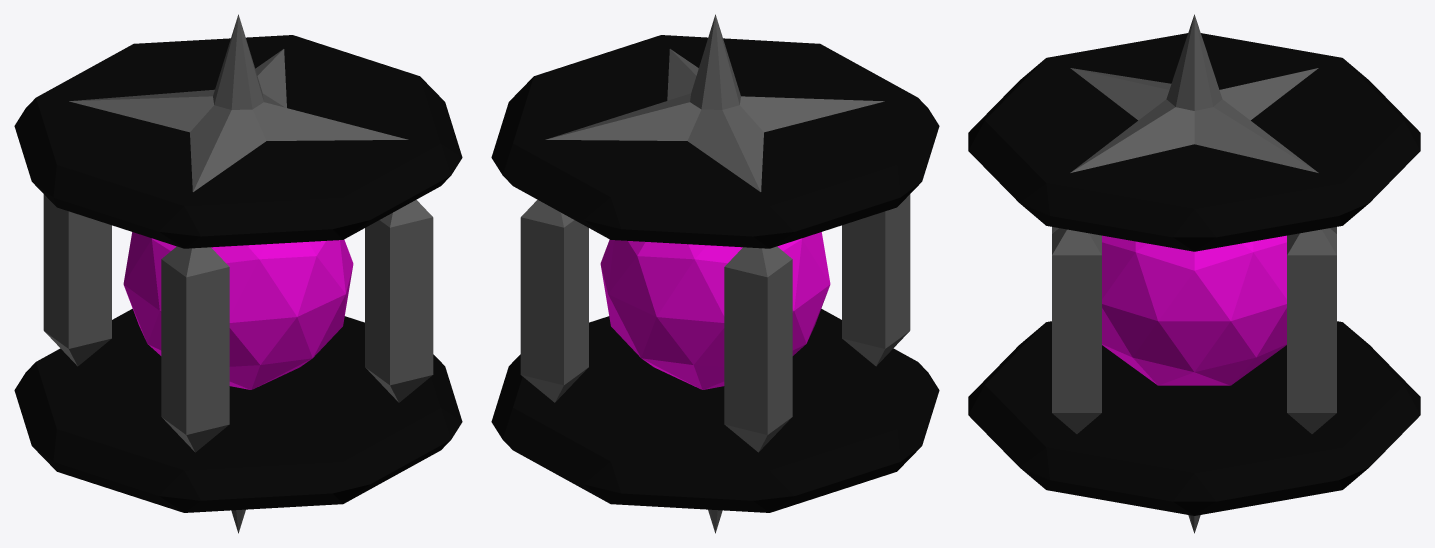
File: CubeEnemy2.fbx
3 views of the same model, side by side, from view 1: azimuth 30°, elevation 25°; view 2: azimuth 150°, elevation 25°; view 3: azimuth 270°, elevation 25° (orthographic).
Parts seen in each view (by area): view 1: Cylinder, Cube.002, Icosphere, Cone.002; view 2: Cylinder, Cube.002, Icosphere, Cone.002; view 3: Cylinder, Icosphere, Cube.002, Cone.002.
Boxes of the visible parts, x1=… form: Cylinder: x1=14, y1=35, x2=462, y2=512; Cube.002: x1=43, y1=194, x2=433, y2=452; Icosphere: x1=123, y1=232, x2=353, y2=389; Cone.002: x1=69, y1=14, x2=408, y2=533; Cylinder: x1=491, y1=35, x2=939, y2=512; Cube.002: x1=520, y1=194, x2=910, y2=452; Icosphere: x1=600, y1=232, x2=830, y2=389; Cone.002: x1=545, y1=14, x2=884, y2=533; Cylinder: x1=968, y1=33, x2=1420, y2=515; Icosphere: x1=1102, y1=235, x2=1286, y2=385; Cube.002: x1=1052, y1=227, x2=1336, y2=433; Cone.002: x1=1070, y1=14, x2=1318, y2=533.
Size of the model in its own units: 192 by 244 by 192.
